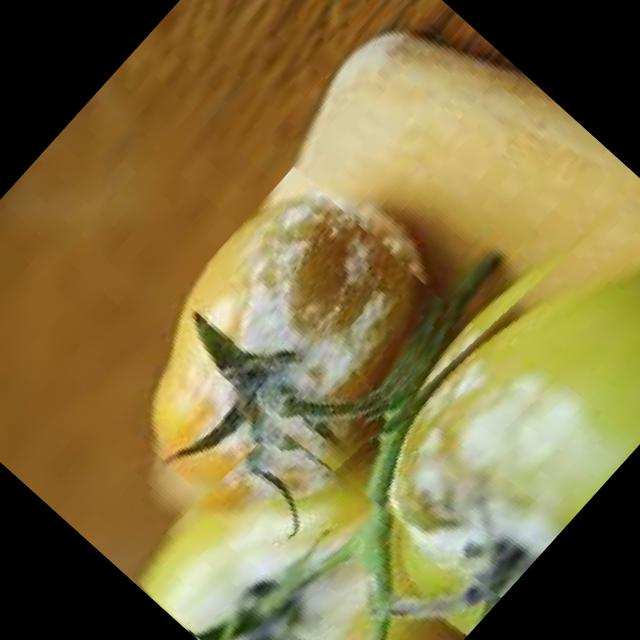Organic: (298, 152, 640, 640), (89, 165, 466, 548), (122, 395, 502, 640)
